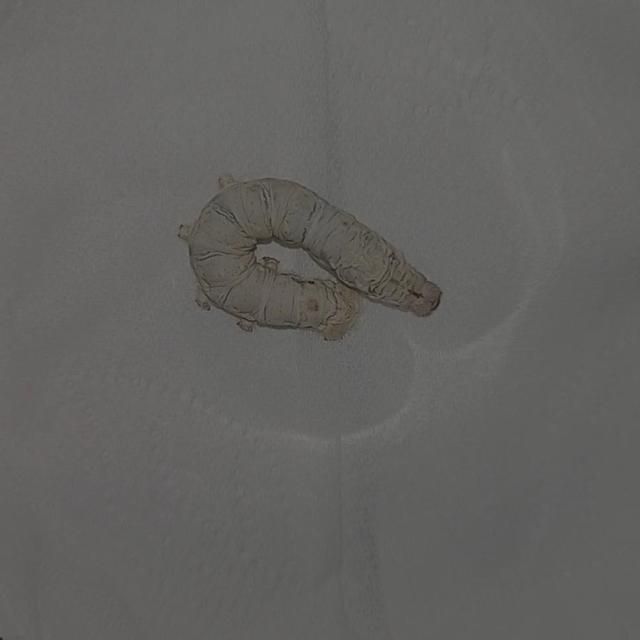Healthy: (170, 162, 448, 352)
